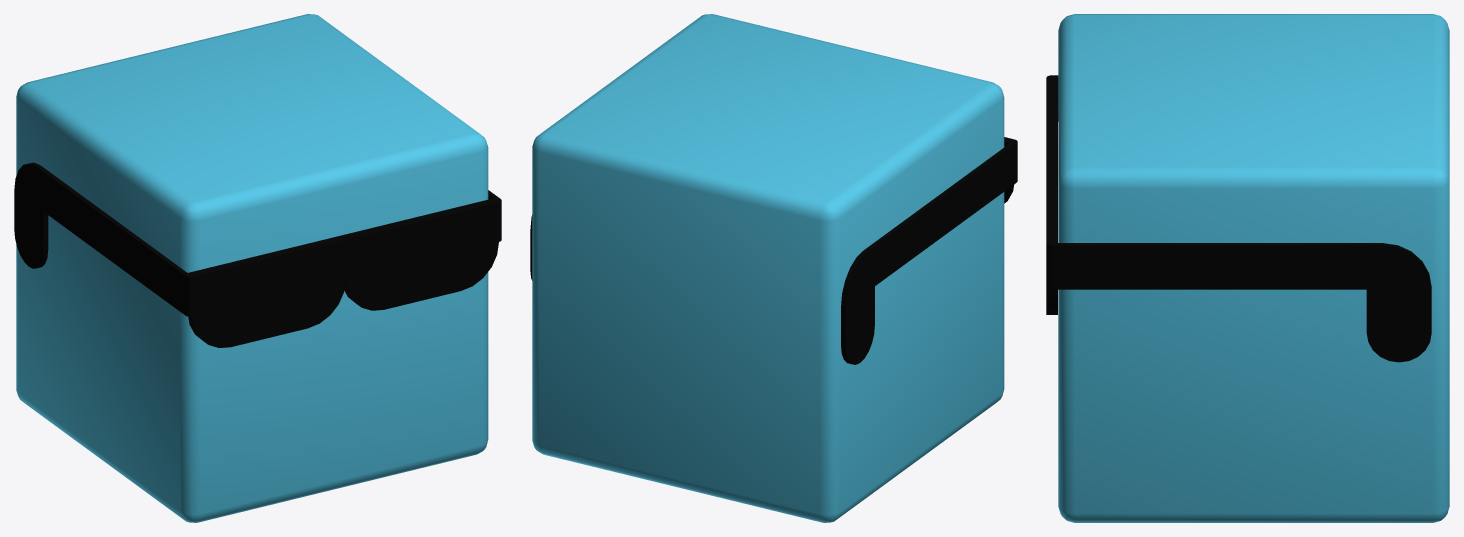
File: IceSlime.glb
The picture shows the model from 3 angles, left to right: view 1: azimuth 30°, elevation 25°; view 2: azimuth 150°, elevation 25°; view 3: azimuth 270°, elevation 25°; orthographic projection. The views are drawn at different scales.
Visible parts, largest first — view 1: SlimeBody; view 2: SlimeBody; view 3: SlimeBody.
Part boxes in pixels (x1=…): SlimeBody: x1=14, y1=14, x2=501, y2=522; SlimeBody: x1=530, y1=14, x2=1017, y2=522; SlimeBody: x1=1046, y1=14, x2=1449, y2=522.
Bounding box in the file's own units: 2.06 × 2 × 2.06.
